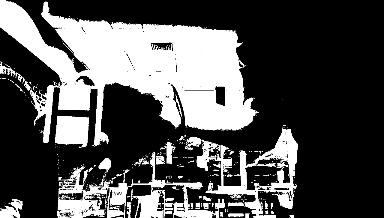H: (44, 84, 102, 146)
